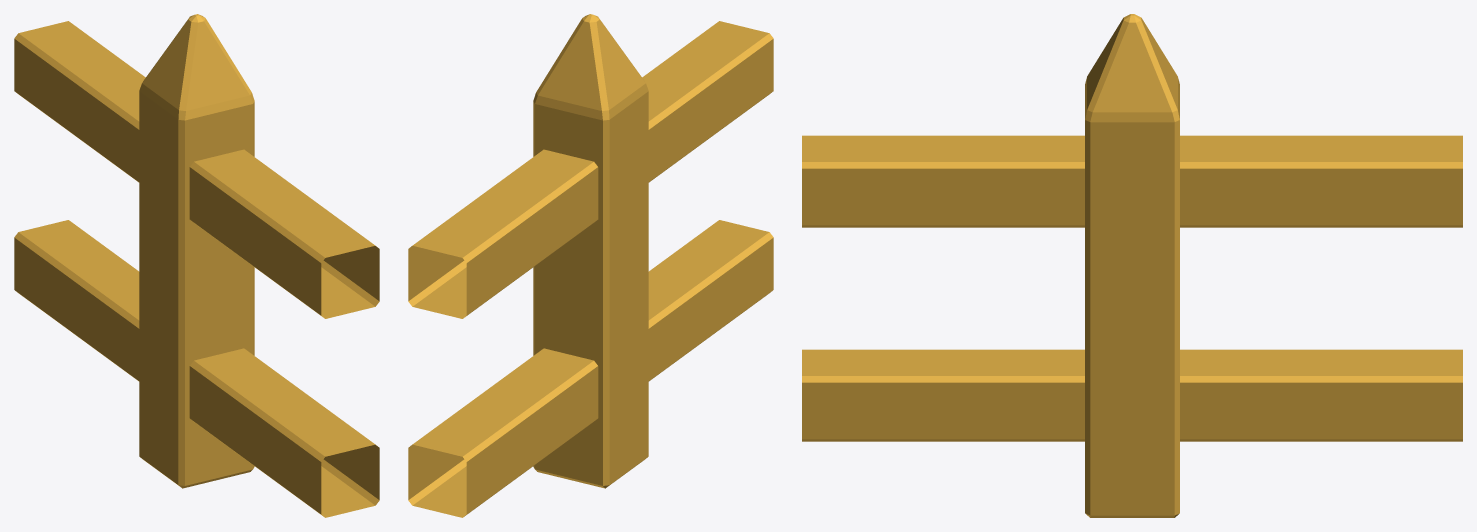
The model's file is Fence_01.fbx.
The picture shows the model from 3 angles, left to right: view 1: azimuth 30°, elevation 25°; view 2: azimuth 150°, elevation 25°; view 3: azimuth 270°, elevation 25°; orthographic projection. The views are drawn at different scales.
Parts seen in each view (by area): view 1: Fence_01; view 2: Fence_01; view 3: Fence_01.
Part boxes in pixels (x1=…): Fence_01: x1=14, y1=14, x2=379, y2=517; Fence_01: x1=408, y1=14, x2=773, y2=517; Fence_01: x1=802, y1=14, x2=1462, y2=517.
Bounding box in the file's own units: 32.87 × 186 × 229.
